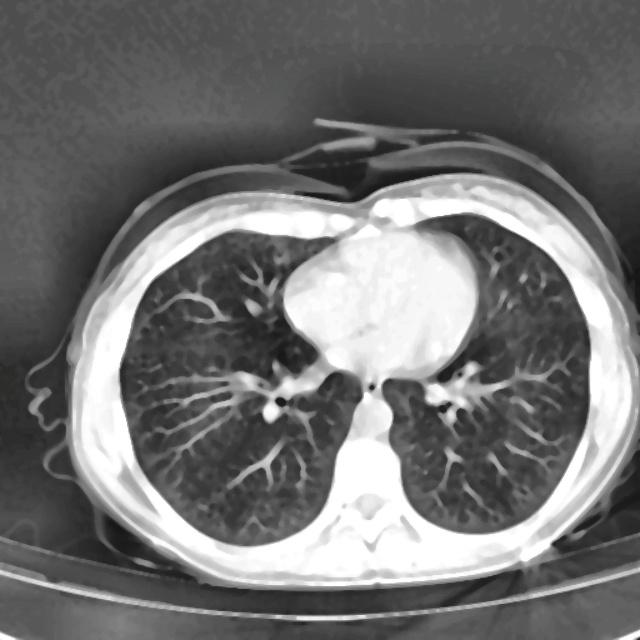covid: (30, 120, 638, 591)
